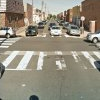crosswalk: (2, 49, 100, 70), (0, 37, 21, 49)
